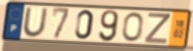0: (74, 9, 94, 41)
7: (51, 6, 71, 41)
9: (99, 9, 120, 43)
O: (121, 11, 144, 43)
U: (21, 7, 49, 38)
Z: (143, 12, 172, 45)
